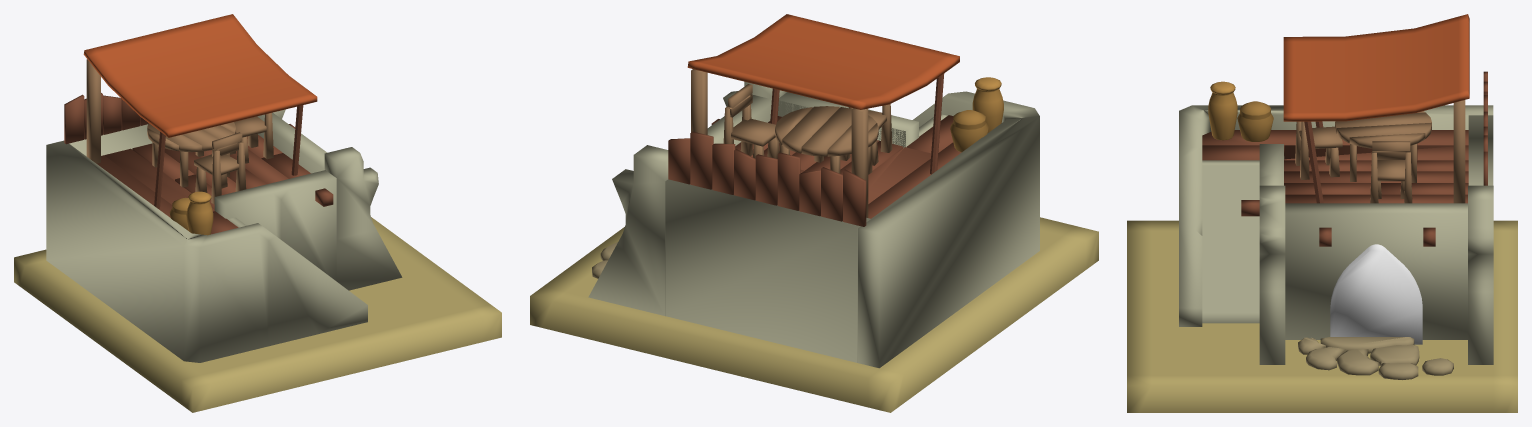
The model's file is col.glb.
3 renders of one model, left to right at view 1: azimuth 30°, elevation 25°; view 2: azimuth 150°, elevation 25°; view 3: azimuth 270°, elevation 25°, orthographic. The views are drawn at different scales.
Visible parts, largest first — view 1: Plane.001, Plane, Plane.012, Plane.004, Plane.002, Plane.003, Plane.013, Plane.005, Plane.011, Circle, Plane.006, Circle.001 (+7 smaller); view 2: Plane.001, Plane, Plane.006, Plane.012, Plane.013, Plane.002, Plane.003, Circle, Plane.011, Plane.004, Circle.001, Circle.002 (+5 smaller); view 3: Plane, Plane.005, Plane.012, Plane.002, Plane.007, Plane.003, Plane.001, Plane.009, Vert.002, Circle, Plane.006, Circle.001 (+13 smaller).
Boxes of the visible parts, bbox=[...] form: Plane.001: bbox=[46, 140, 367, 362]; Plane: bbox=[14, 217, 501, 412]; Plane.012: bbox=[83, 14, 317, 137]; Plane.004: bbox=[214, 170, 336, 281]; Plane.002: bbox=[273, 109, 402, 290]; Plane.003: bbox=[97, 135, 310, 234]; Plane.013: bbox=[64, 93, 148, 144]; Plane.005: bbox=[257, 112, 327, 173]; Plane.011: bbox=[86, 59, 100, 163]; Circle: bbox=[147, 122, 235, 152]; Plane.006: bbox=[69, 124, 152, 156]; Circle.001: bbox=[186, 191, 213, 235]; Plane.001: bbox=[778, 91, 1039, 368]; Plane: bbox=[530, 217, 1098, 412]; Plane.006: bbox=[665, 179, 870, 362]; Plane.012: bbox=[687, 14, 959, 109]; Plane.013: bbox=[668, 131, 866, 226]; Plane.002: bbox=[588, 81, 786, 315]; Plane.003: bbox=[735, 115, 961, 218]; Circle: bbox=[775, 106, 878, 156]; Plane.011: bbox=[851, 108, 868, 217]; Plane.004: bbox=[778, 92, 918, 147]; Circle.001: bbox=[972, 77, 1003, 133]; Circle.002: bbox=[950, 110, 988, 152]; Plane: bbox=[1127, 220, 1517, 412]; Plane.005: bbox=[1285, 203, 1467, 339]; Plane.012: bbox=[1283, 14, 1469, 121]; Plane.002: bbox=[1259, 185, 1493, 364]; Plane.007: bbox=[1202, 160, 1259, 323]; Plane.003: bbox=[1202, 130, 1468, 203]; Plane.001: bbox=[1179, 105, 1493, 326]; Plane.009: bbox=[1330, 244, 1422, 344]; Vert.002: bbox=[1298, 337, 1453, 379]; Circle: bbox=[1335, 111, 1431, 148]; Plane.006: bbox=[1468, 115, 1493, 185]; Circle.001: bbox=[1208, 81, 1237, 140].
Size of what is drawn, in the model's own units: 8 by 5.86 by 8.
